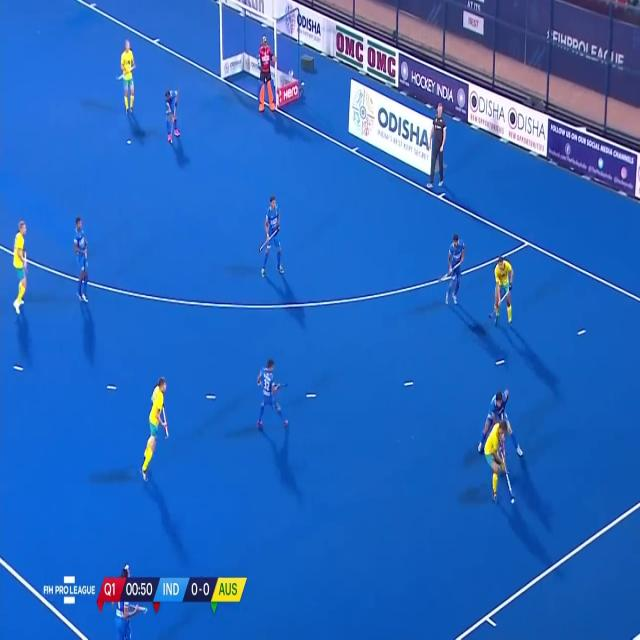ball: (509, 495, 517, 507)
